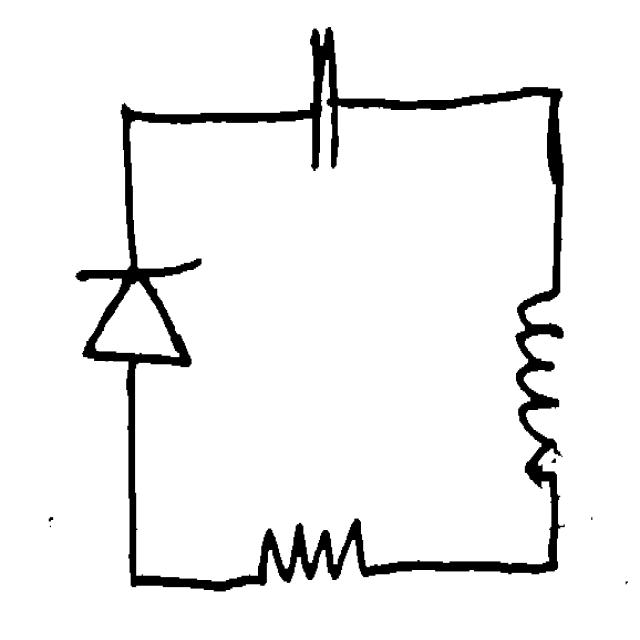capacitor: (299, 11, 354, 180)
inductor: (504, 278, 576, 502)
resistor: (64, 250, 208, 391), (248, 500, 379, 593)
